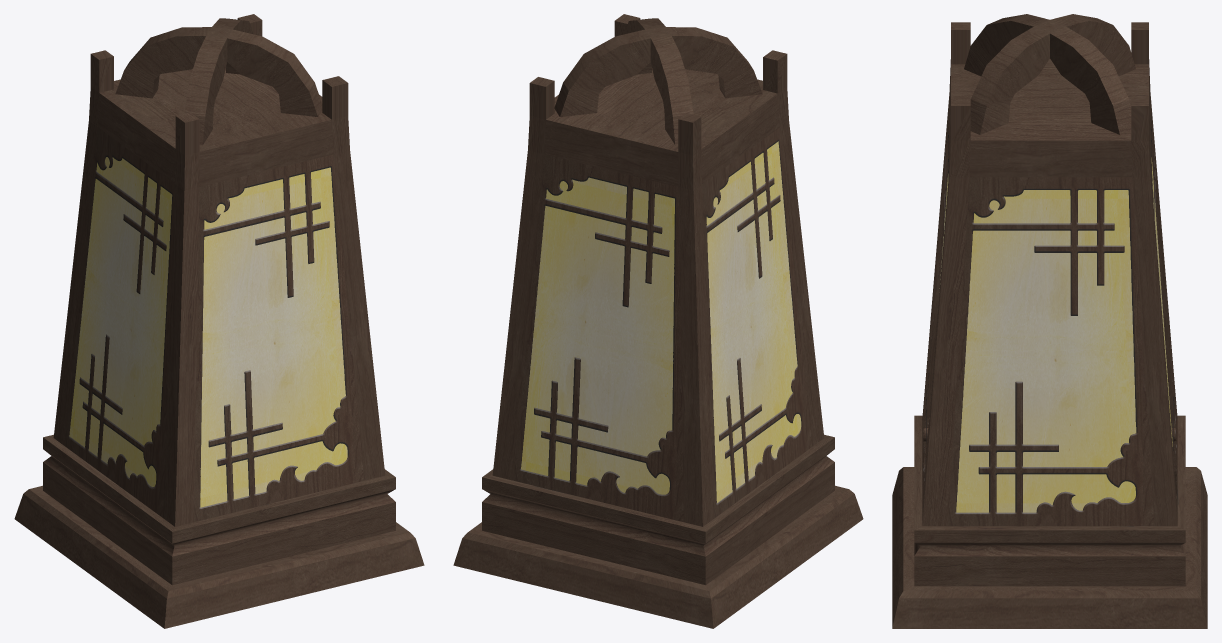
File: paperlantern01.fbx
3 views of the same model, side by side, from view 1: azimuth 30°, elevation 25°; view 2: azimuth 150°, elevation 25°; view 3: azimuth 270°, elevation 25° (orthographic). The views are drawn at different scales.
Visible parts, largest first — view 1: paperlamrern01; view 2: paperlamrern01; view 3: paperlamrern01.
Boxes of the visible parts, bbox=[...] form: paperlamrern01: bbox=[14, 14, 424, 628]; paperlamrern01: bbox=[453, 14, 863, 628]; paperlamrern01: bbox=[892, 14, 1207, 628].
Size of the model in its own units: 45.19 by 84.73 by 45.19.
